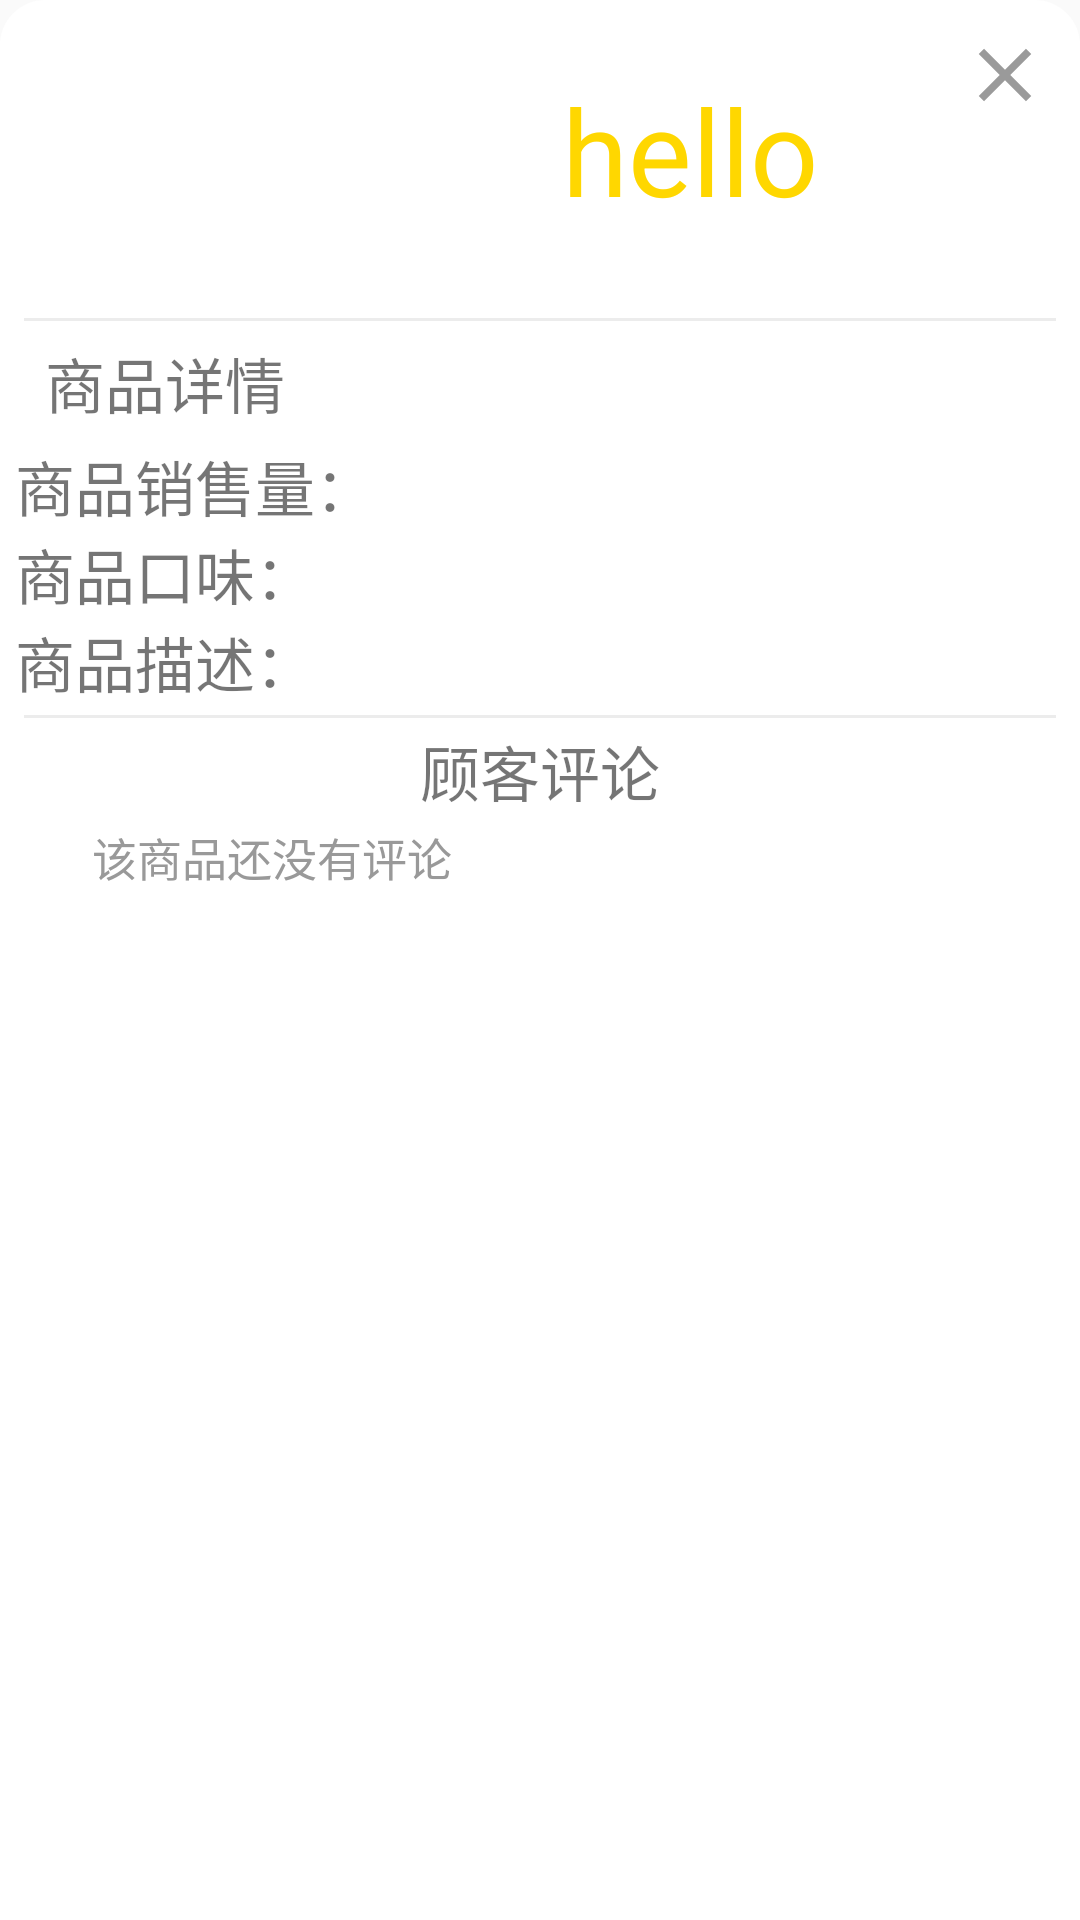

Where to tap for icons on this 1080w x 1920h app screen, as point (x, y):
close: point (1005, 75)
